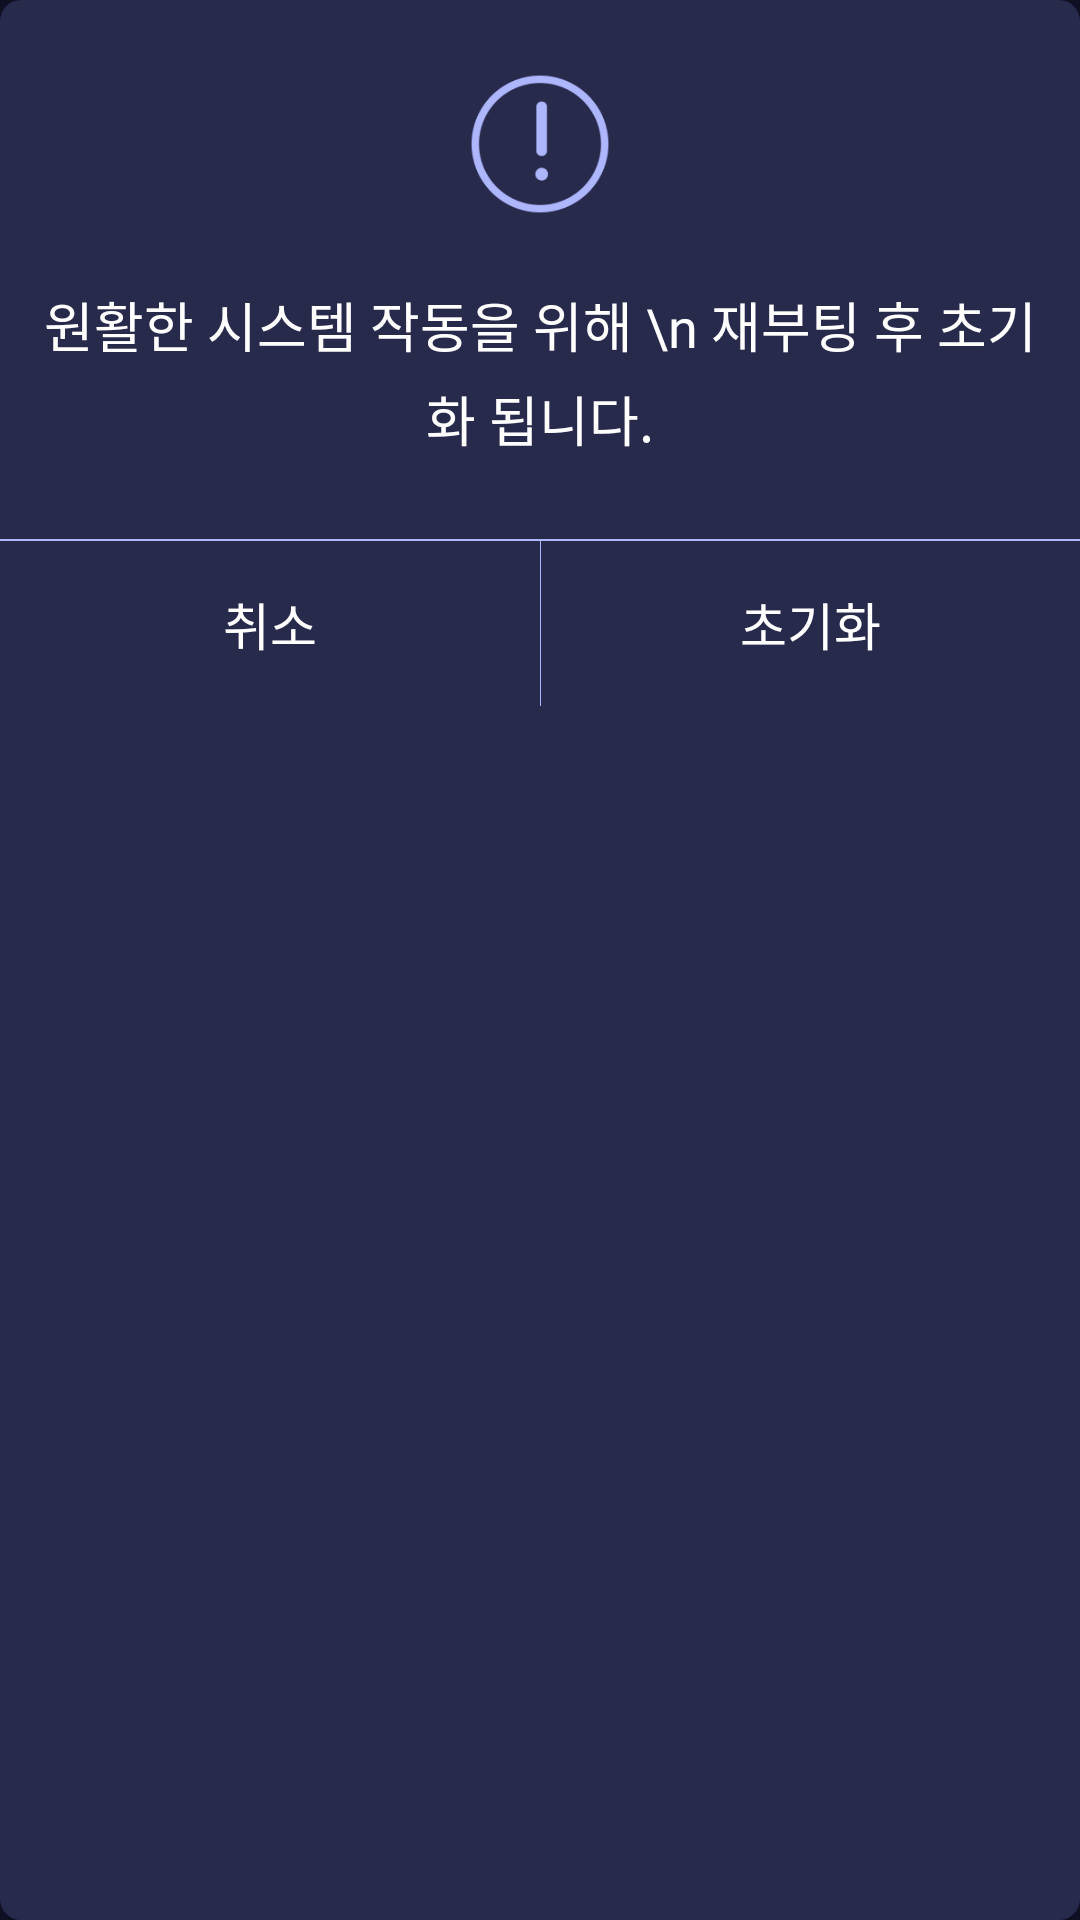

Icons on this 1080 x 1920 Android screen, each with the point to tap as (x,y):
caution: (540,144)
